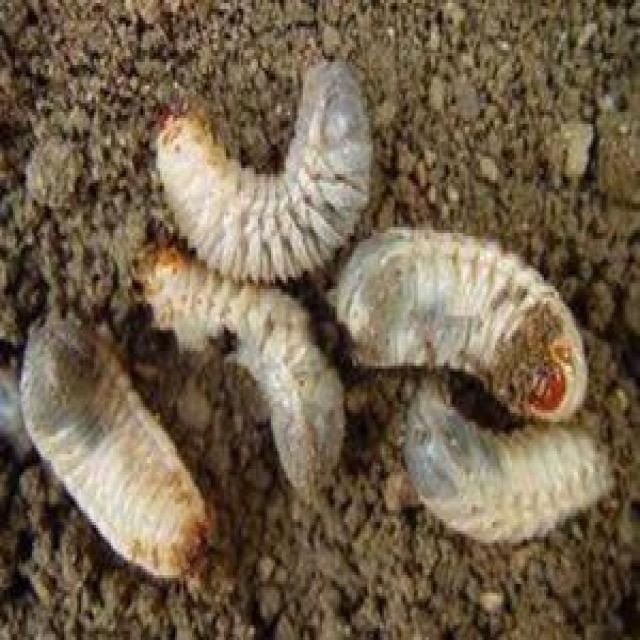Grub-Adult-: (148, 57, 386, 286), (325, 224, 596, 423), (138, 242, 352, 493), (18, 312, 212, 584)
